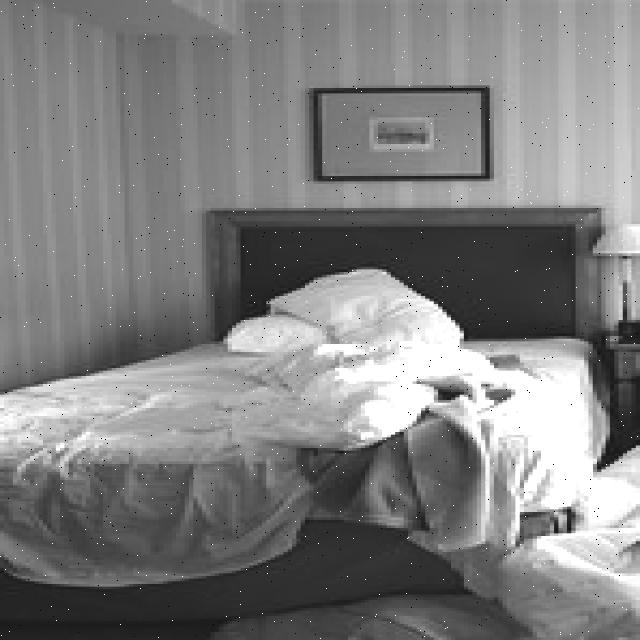bed: (0, 245, 584, 563)
